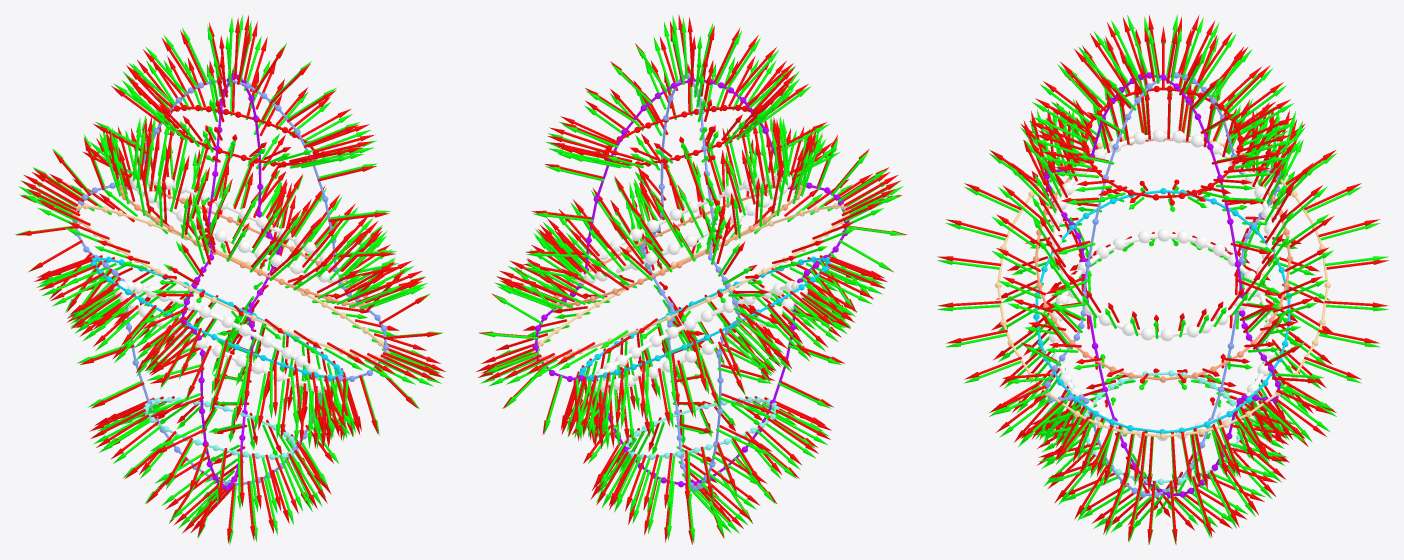
The model's file is flowrep_ellipsetorus.gltf.
The picture shows the model from 3 angles, left to right: view 1: azimuth 30°, elevation 25°; view 2: azimuth 150°, elevation 25°; view 3: azimuth 270°, elevation 25°; orthographic projection. The views are drawn at different scales.
Bounding box in the file's own units: 0.663 × 0.8814 × 0.6992.
